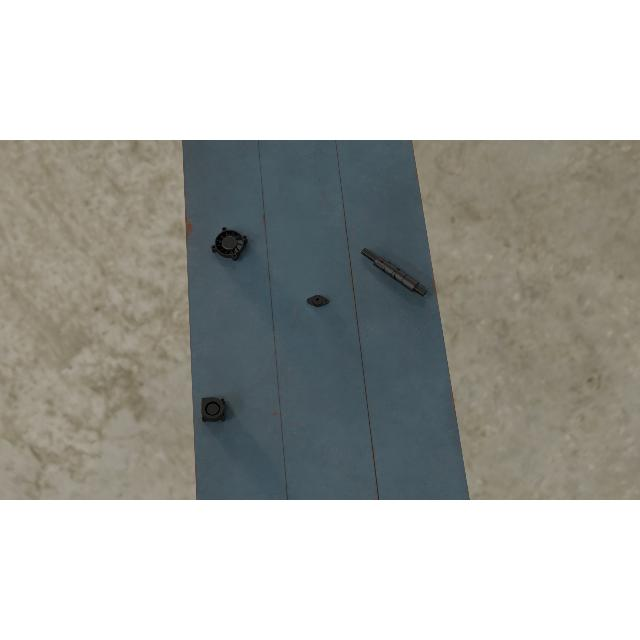Pieza1: (359, 244, 428, 300)
Pieza2: (307, 294, 329, 306)
Pieza3: (201, 397, 225, 423)
Pieza4: (210, 226, 248, 262)
